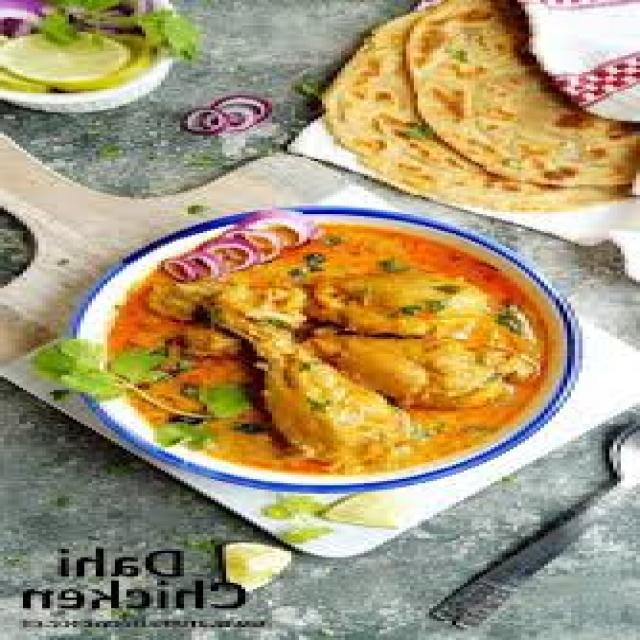Chicken Curry: (107, 193, 529, 477), (96, 222, 540, 486)
